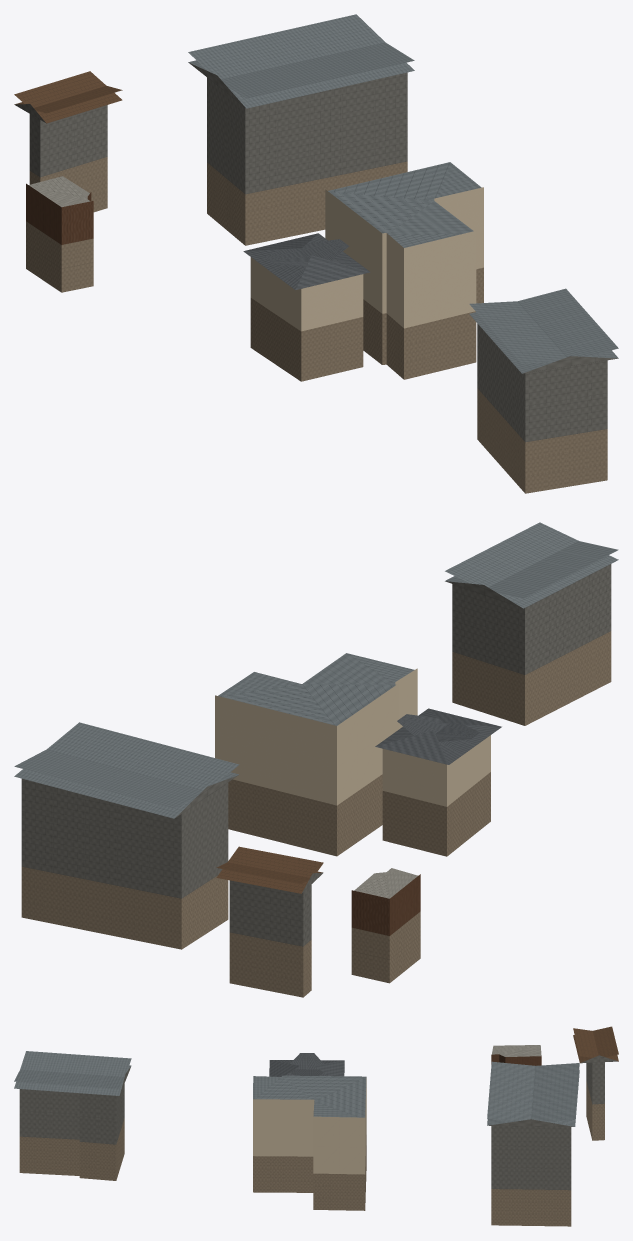
File: bld_c32_-39_456.gltf
The picture shows the model from 3 angles, top to bottom: view 1: azimuth 30°, elevation 25°; view 2: azimuth 150°, elevation 25°; view 3: azimuth 270°, elevation 25°; orthographic projection. The views are drawn at different scales.
Visible parts, largest first — view 1: bld_c32_-39_456; view 2: bld_c32_-39_456; view 3: bld_c32_-39_456.
Part boxes in pixels (x1,y1,x2,y2): bld_c32_-39_456: (14, 14, 618, 493); bld_c32_-39_456: (14, 522, 618, 997); bld_c32_-39_456: (14, 1026, 618, 1226).
Bounding box in the file's own units: 36.87 × 15.4 × 76.95.
Materials: 11 (11 with a texture image).
